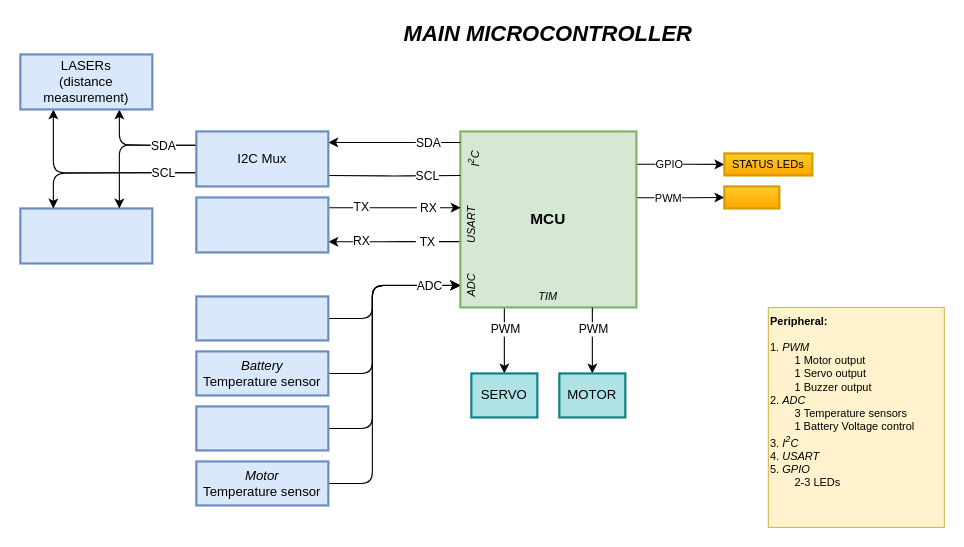
Image size: 964x547. Some labels were removed from this diagram. Here are the shapes that lost their labels. From the top down, the centre of each, then its label:
At [751,197]: "BUZZER".
At [86,235]: "Accelerometer Gyroscope Compass".
At [262,224]: "Radio Rx/Tx (Bluetooth)".
At [262,318]: "Volt. Regulator Temperature sensor".
At [262,428]: "ESC Temperature sensor".
